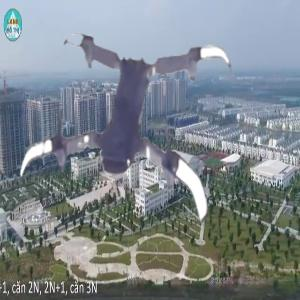drone: (15, 27, 236, 248)
